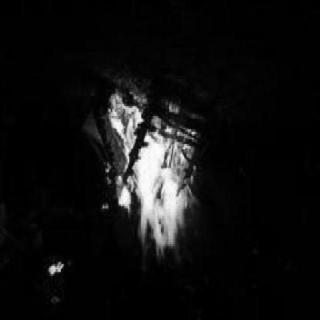Fire: (104, 86, 206, 262)
